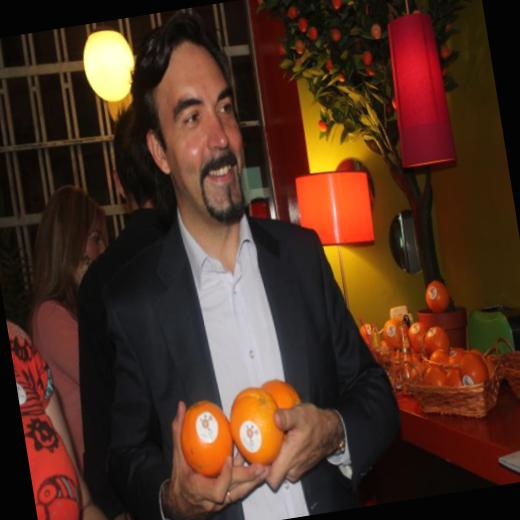Grape: (225, 390, 293, 473), (175, 400, 234, 492), (260, 372, 303, 431), (421, 280, 451, 315), (419, 320, 446, 354), (462, 348, 486, 378), (410, 318, 430, 352), (445, 345, 469, 372), (362, 319, 384, 347), (384, 314, 401, 350), (427, 360, 446, 384), (446, 366, 466, 386)
